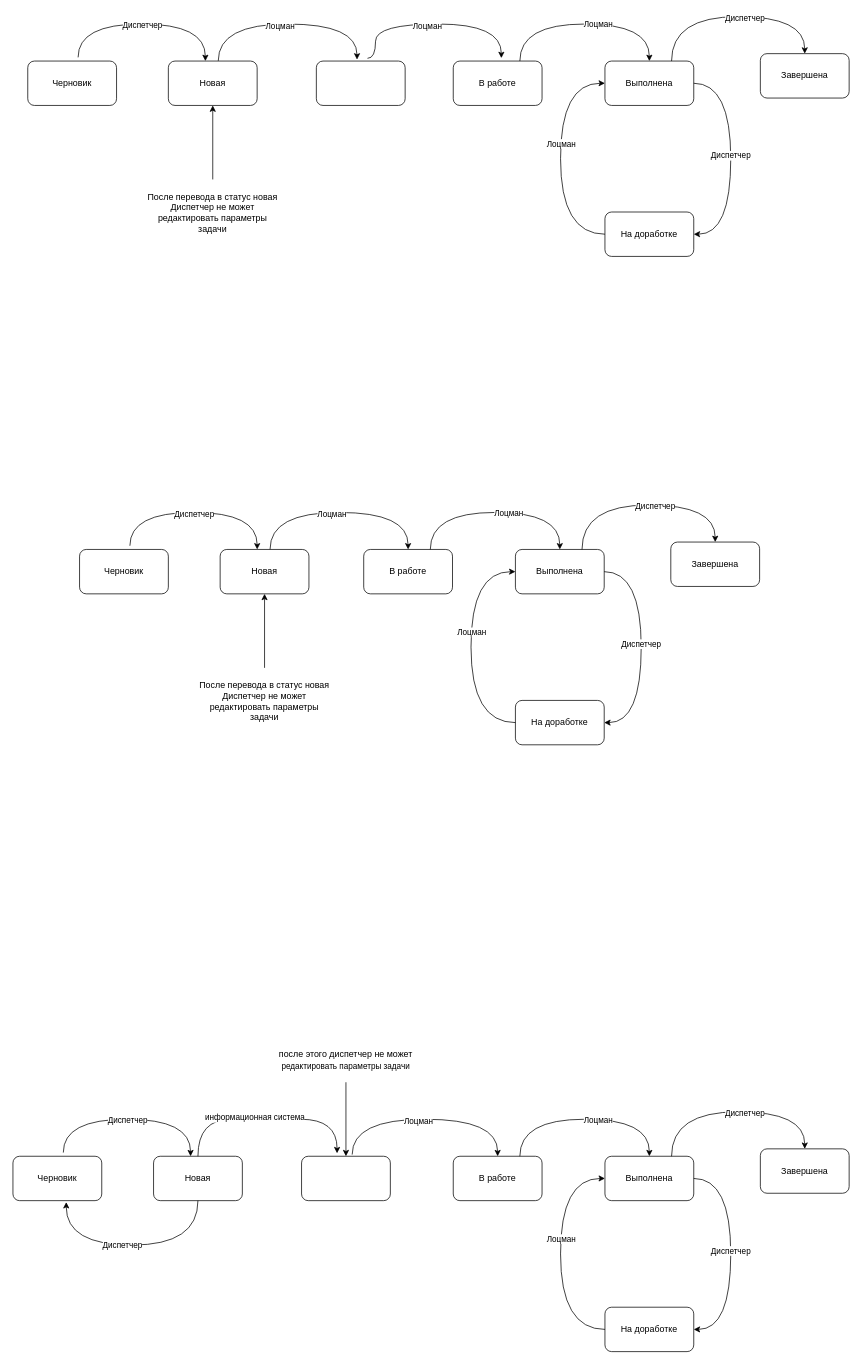
The diagram is 862 pixels wide and 1365 high, and some of its shapes have lost their labels. Each missing label, with the centre of its shape:
Доставлена: [345,1178]
Принято: [360,82]
